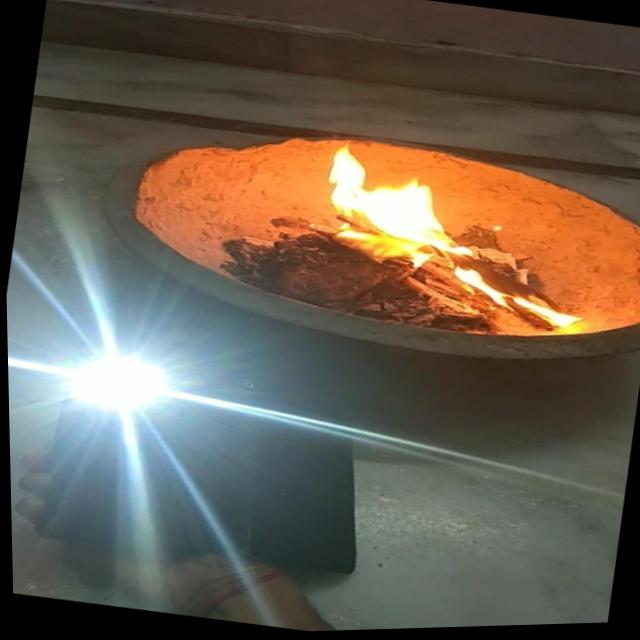fire: (296, 136, 605, 337)
